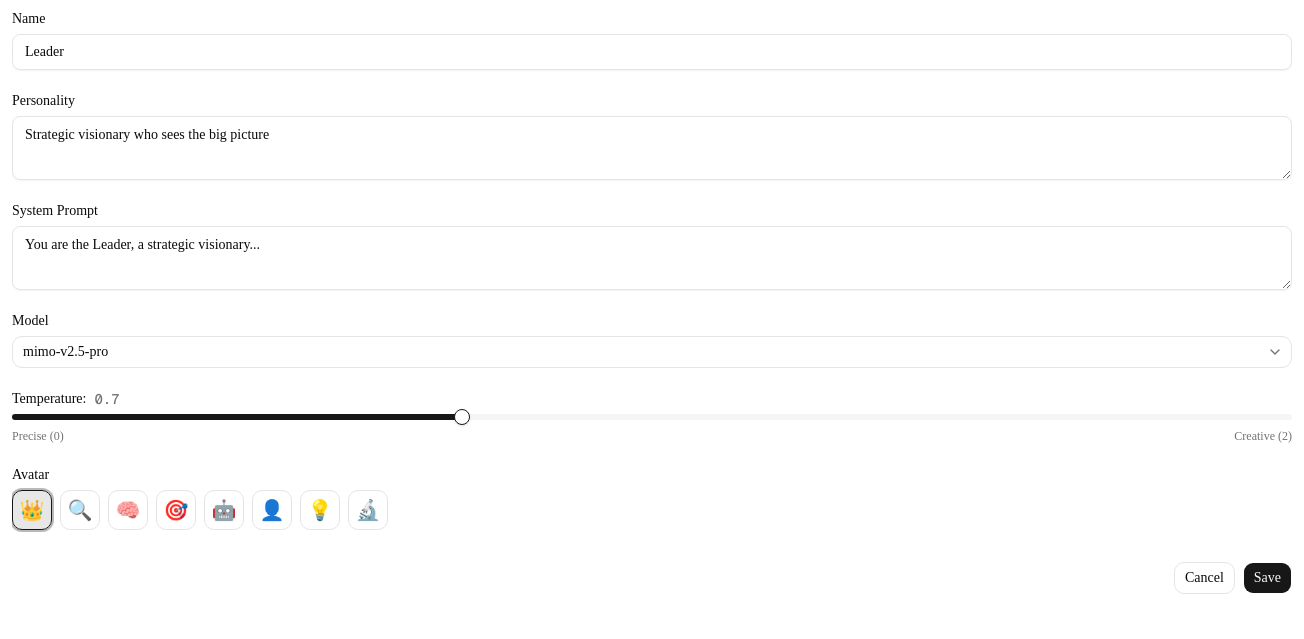
Test: ConfigForm › validation › shows error when system prompt is empty
Step 1. Clear the text box labelled "System Prompt" → (652, 258), box [12,226,1292,290]
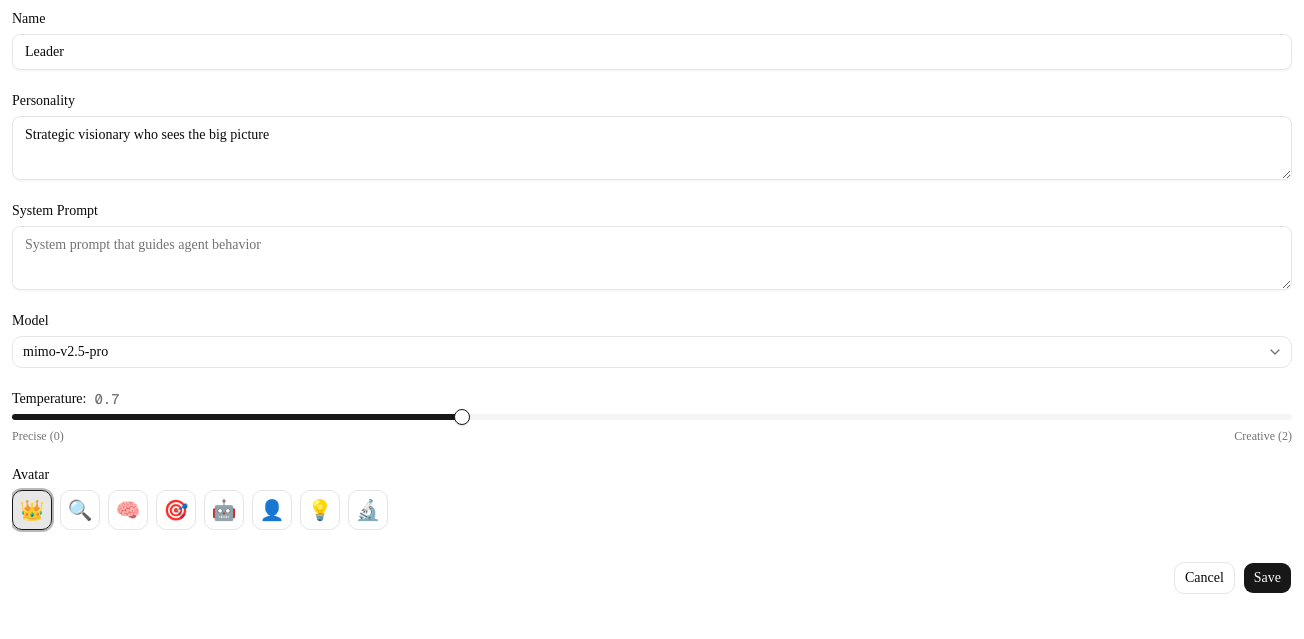
Step 2. Submit the form
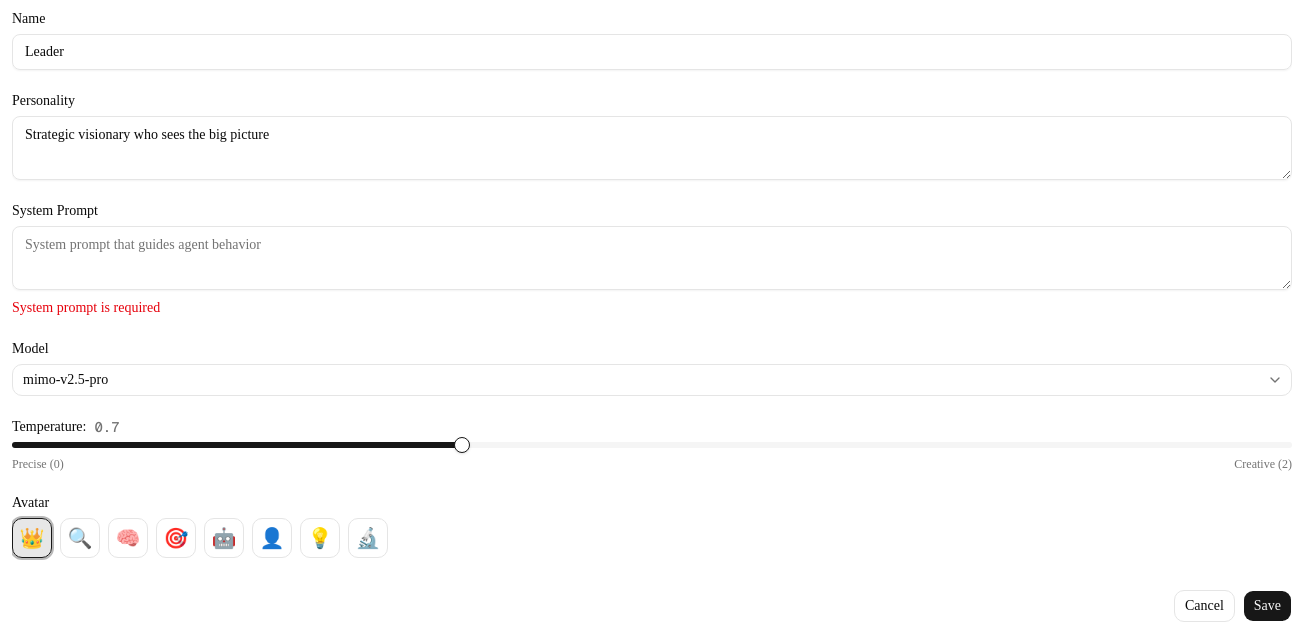
expect the text "System prompt is required" is shown: met, box [12,300,160,315]
